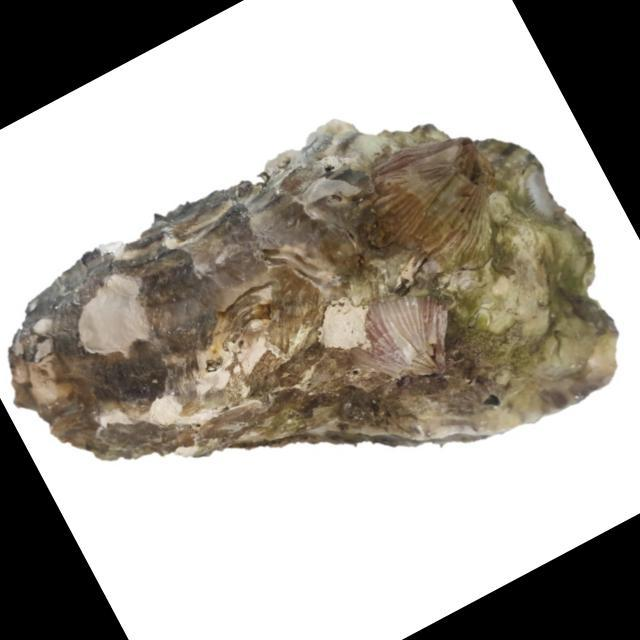Oyster- Indeterminate: (7, 120, 619, 463)
